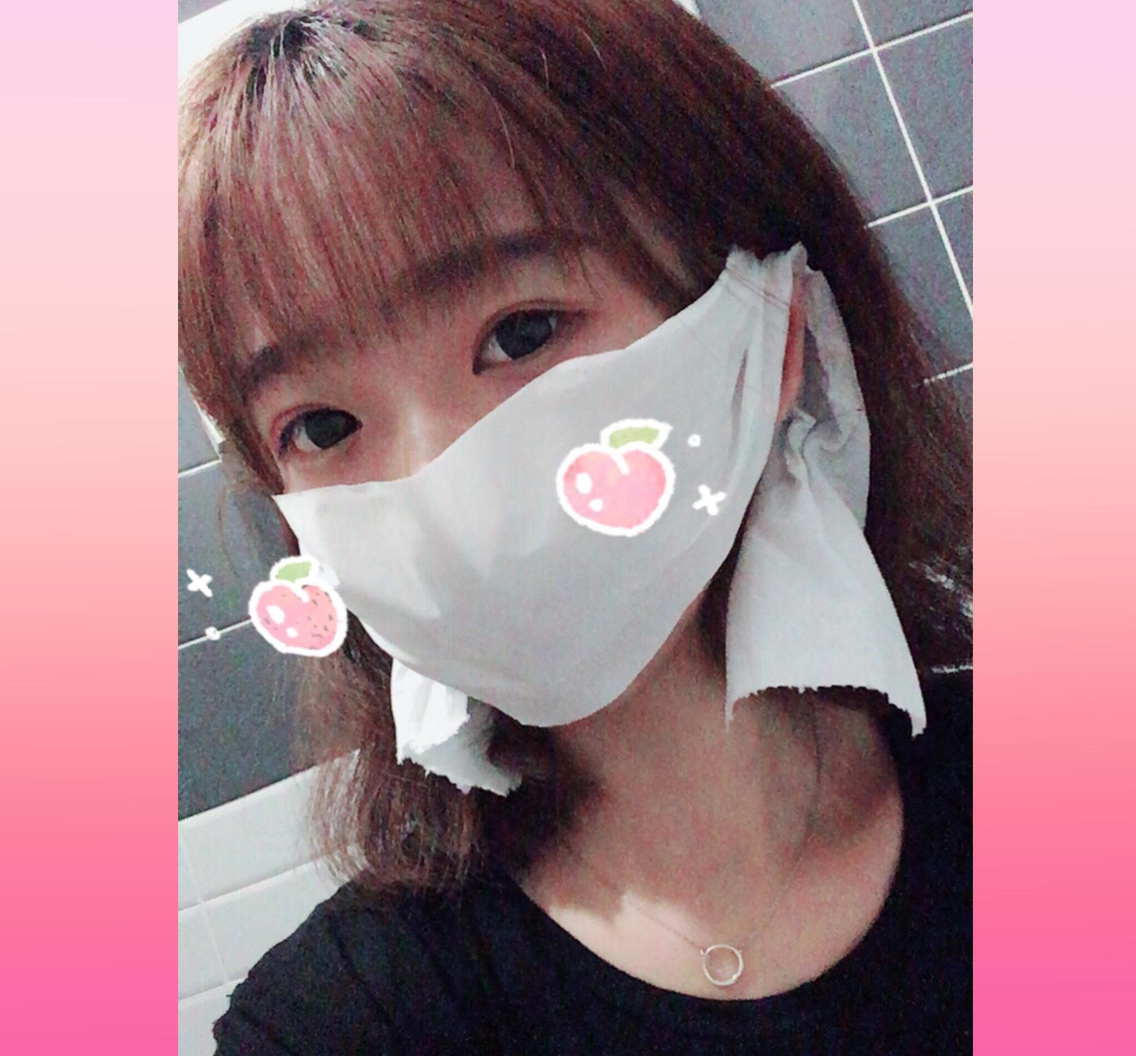OK: (230, 205, 755, 731)
